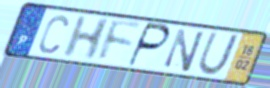C: (37, 13, 70, 55)
F: (96, 18, 144, 64)
H: (60, 15, 113, 61)
N: (162, 27, 207, 75)
P: (125, 22, 172, 69)
U: (196, 31, 241, 77)
